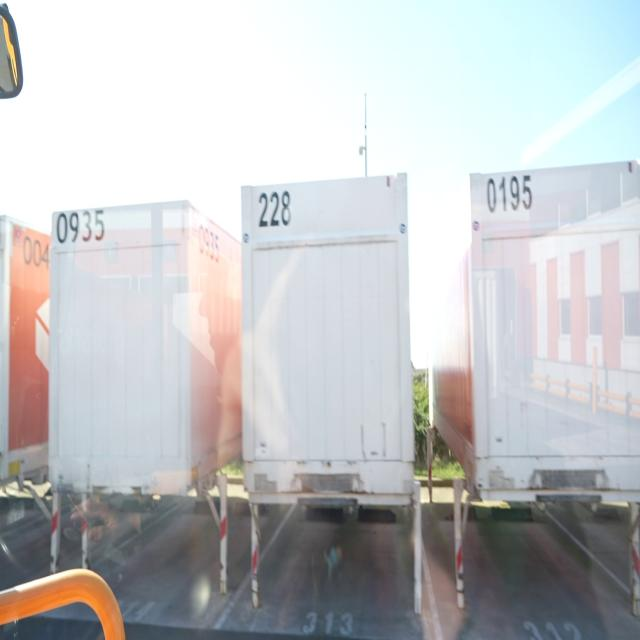Code: (56, 208, 110, 250), (487, 171, 535, 212), (252, 186, 294, 232)
